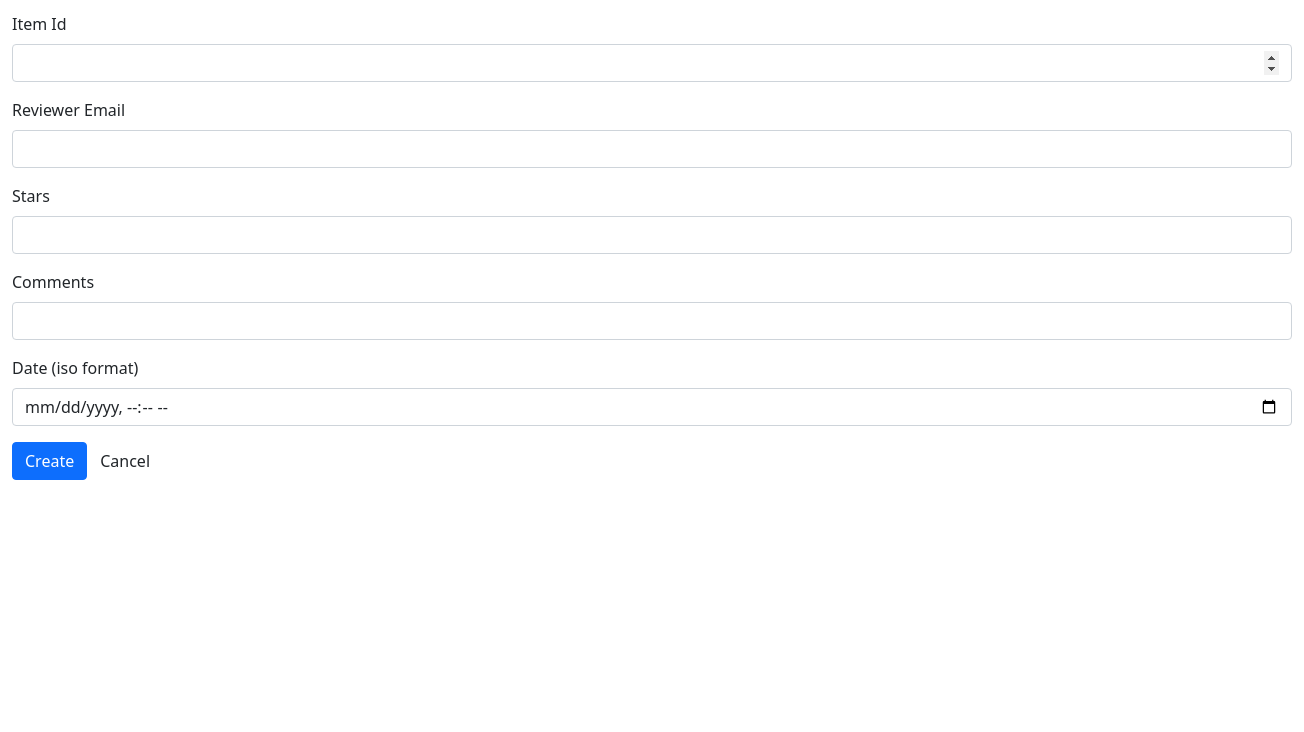
MenuItemReviewForm tests › that the correct validations are performed
Click the button "Create".
click(50, 461)  # box [12,442,87,480]
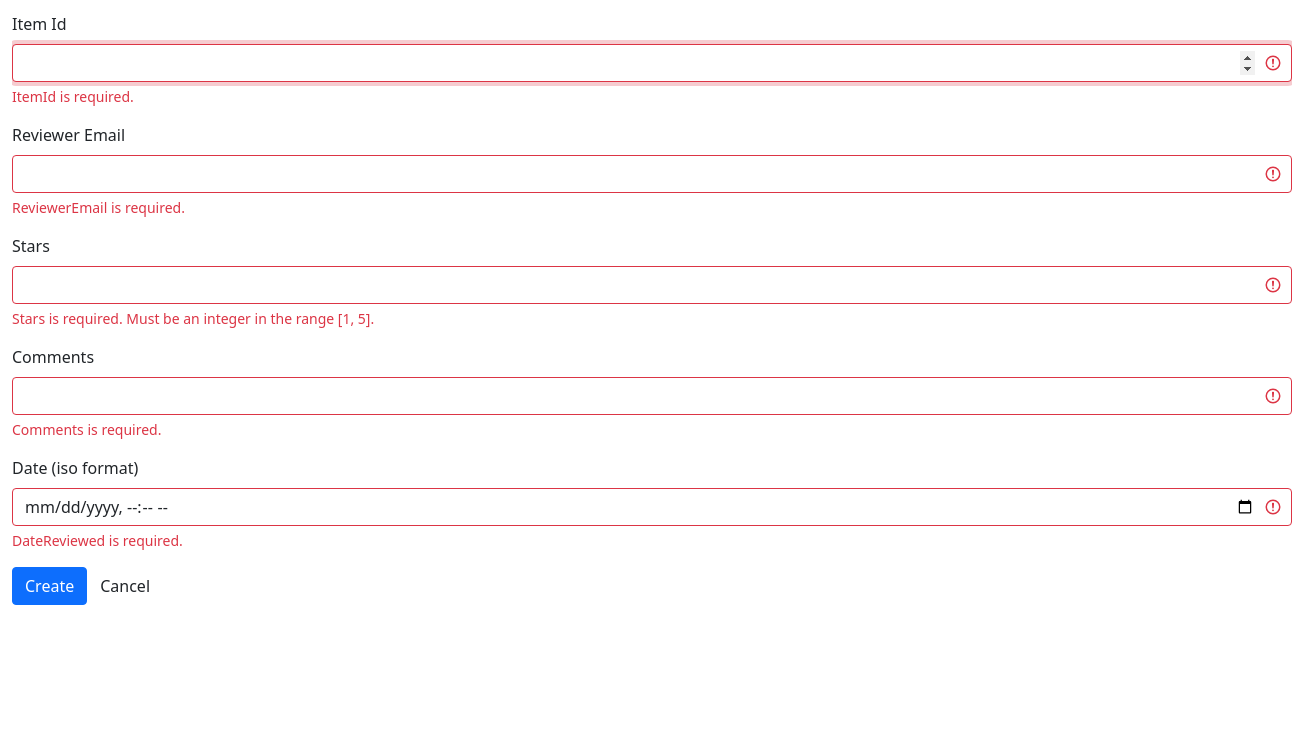
Check: the text "ItemId is required." is shown, box [12,87,134,106]
Check: the text "ReviewerEmail is required." is shown, box [12,198,185,217]
Check: the text "Stars is required. Must be an integer in the range [1, 5]." is shown, box [12,309,374,328]
Type "6" into the number field with test id "MenuItemReviewForm-stars".
click(652, 285); type("6")  # box [12,266,1292,304]
Click the button "Create".
click(50, 586)  # box [12,567,87,605]
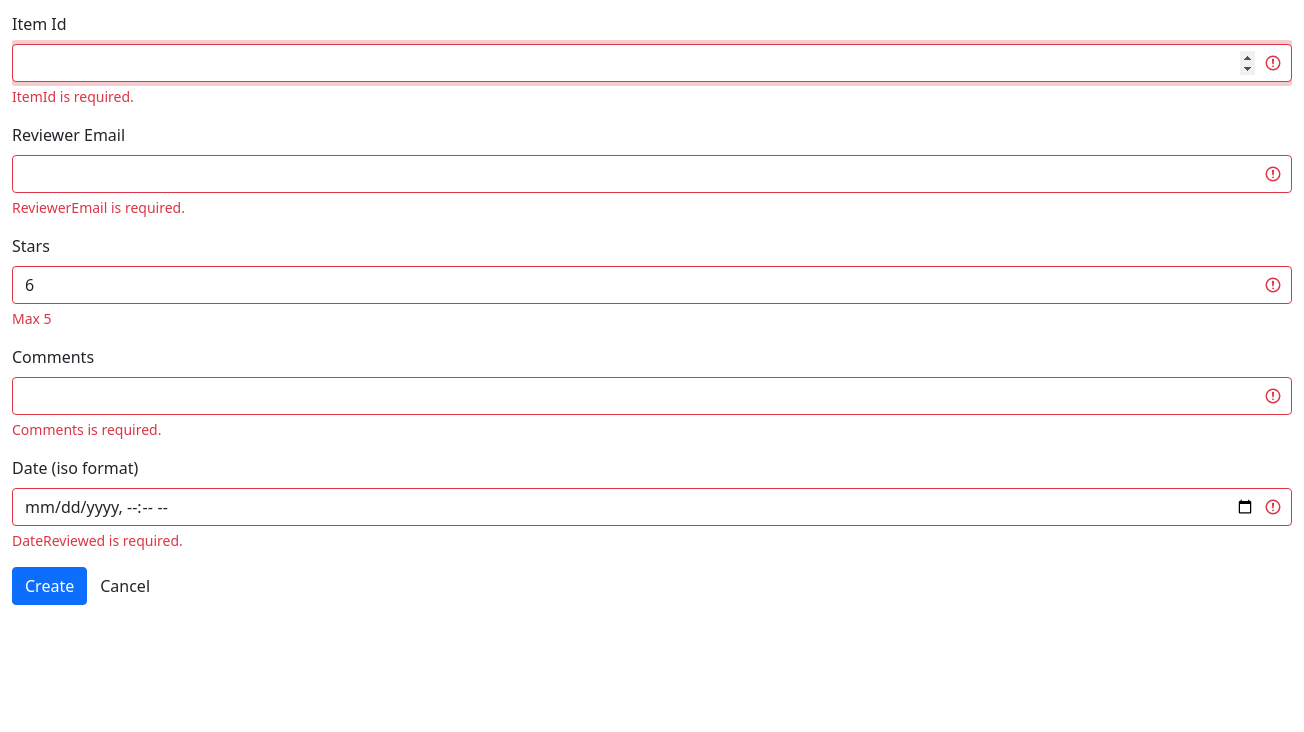
Check: the text "Max 5" is shown, box [12,309,52,328]
Replace the text in the number field with test id "MenuItemReviewForm-stars" with "0" at (652, 285), box [12,266,1292,304]
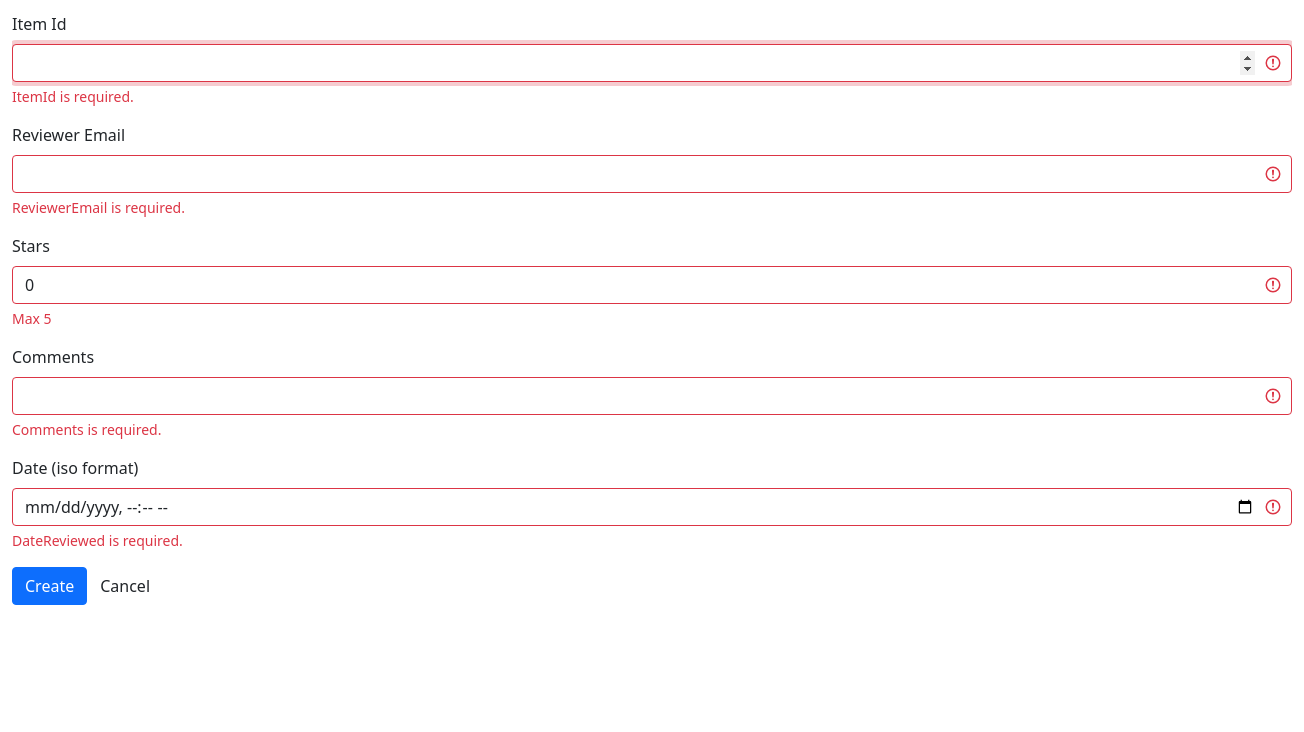
Click the button "Create".
click(50, 586)  # box [12,567,87,605]
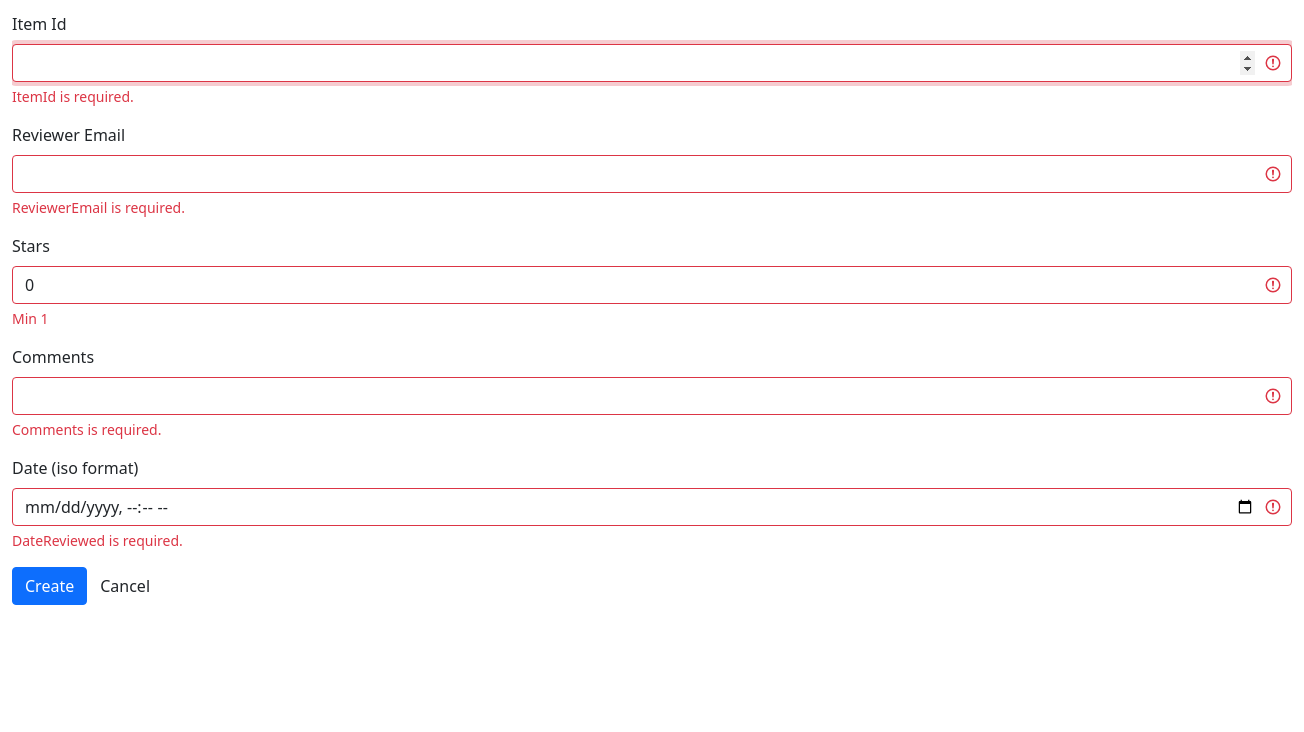
Check: the text "Min 1" is shown, box [12,309,49,328]
Type "-1" into the number field with test id "MenuItemReviewForm-itemId".
click(652, 63); type("-1")  # box [12,44,1292,82]
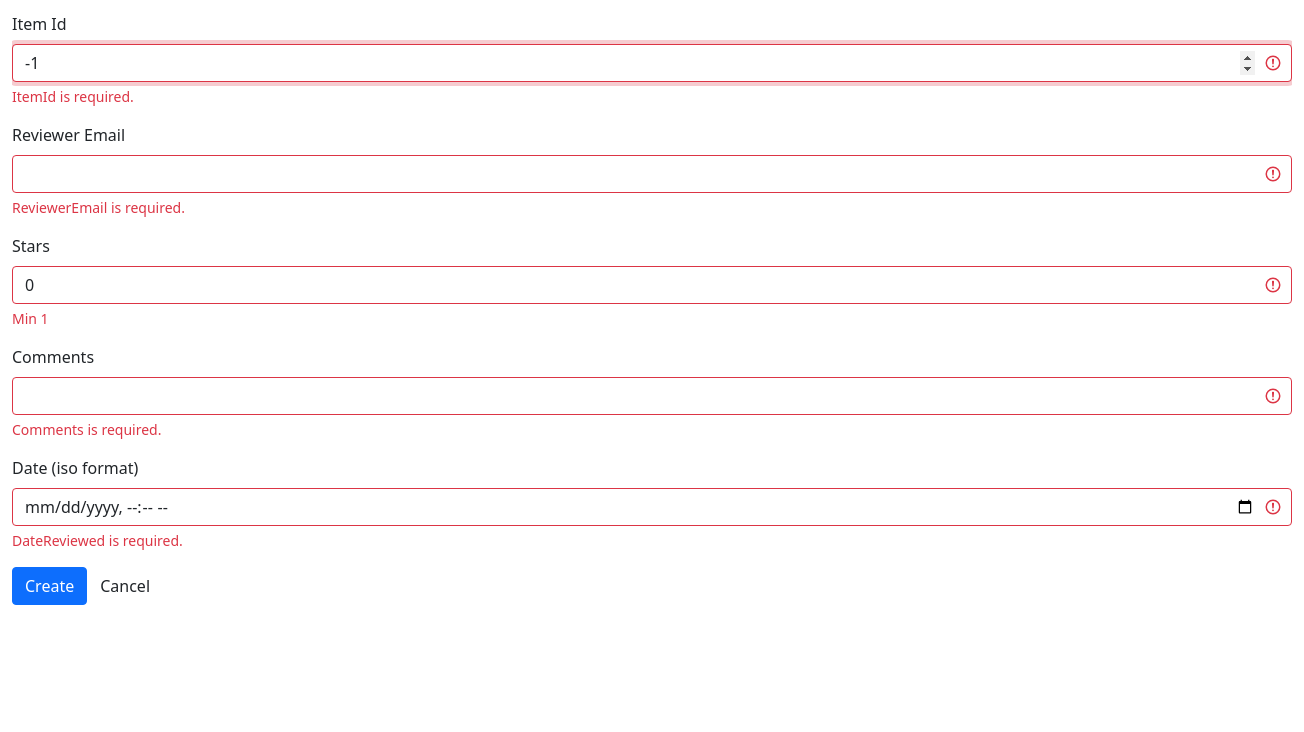
Click the button "Create".
click(50, 586)  # box [12,567,87,605]
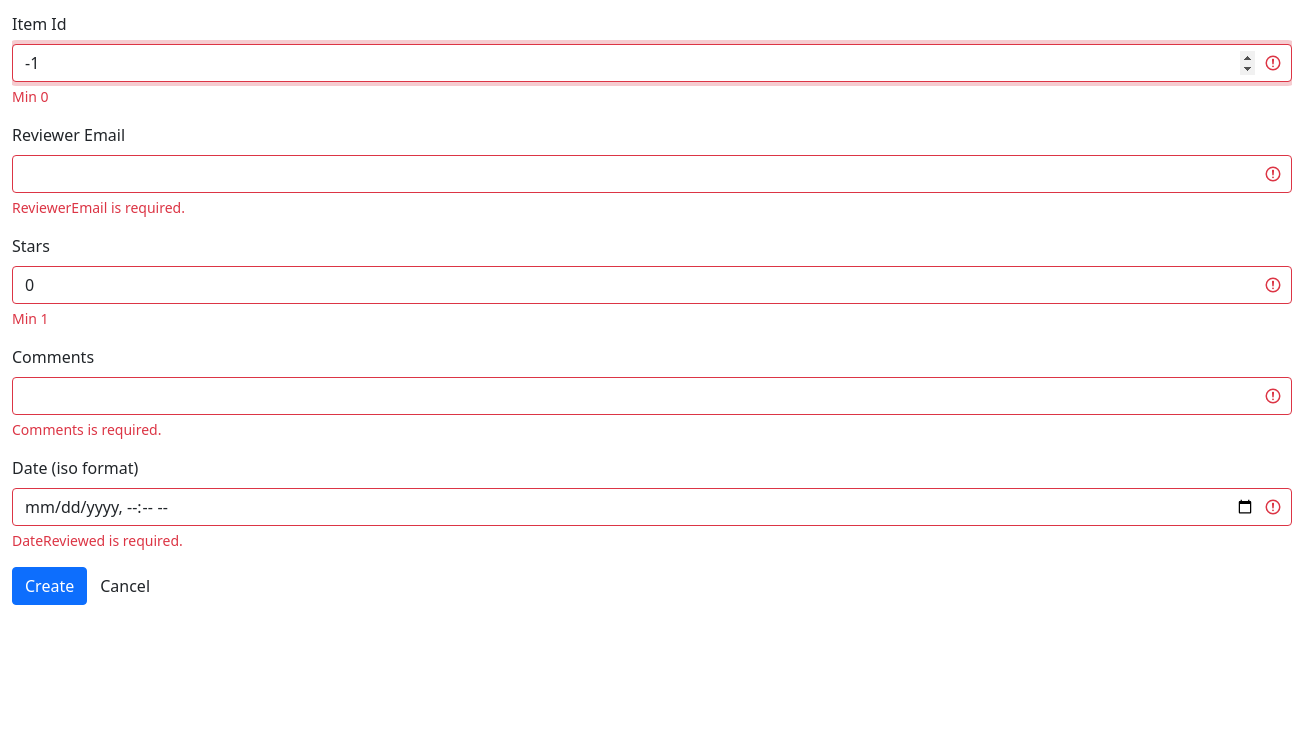
Check: the text "Min 0" is shown, box [12,87,49,106]
